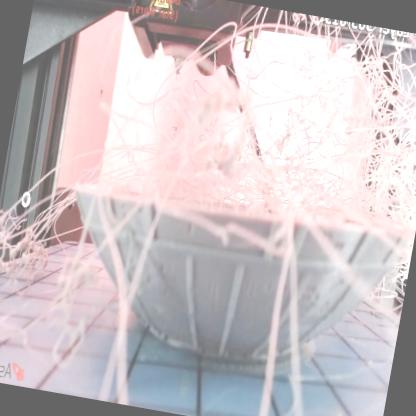fail: (232, 23, 416, 237)
